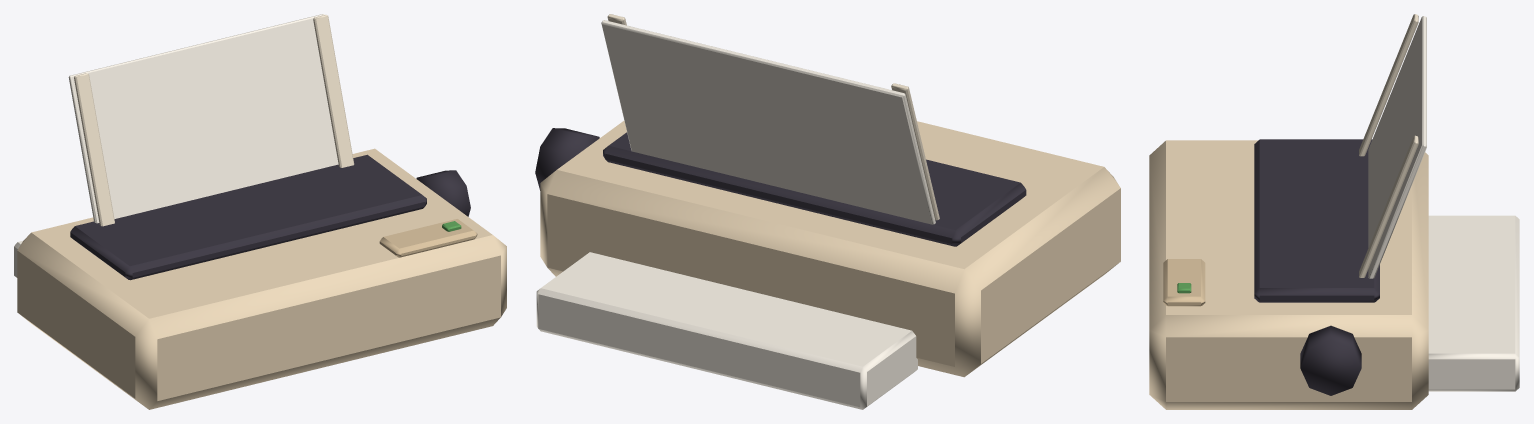
The model's file is era_dot_matrix.glb.
The picture shows the model from 3 angles, left to right: view 1: azimuth 30°, elevation 25°; view 2: azimuth 150°, elevation 25°; view 3: azimuth 270°, elevation 25°; orthographic projection. The views are drawn at different scales.
Parts seen in each view (by area): view 1: era_dot_matrix; view 2: era_dot_matrix; view 3: era_dot_matrix.
Boxes of the visible parts, x1=… form: era_dot_matrix: x1=14, y1=14, x2=506, y2=409; era_dot_matrix: x1=535, y1=14, x2=1120, y2=409; era_dot_matrix: x1=1149, y1=14, x2=1519, y2=409.
Bounding box in the file's own units: 0.3445 × 0.1934 × 0.265.
